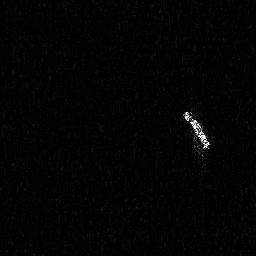ship: (179, 108, 213, 170)
